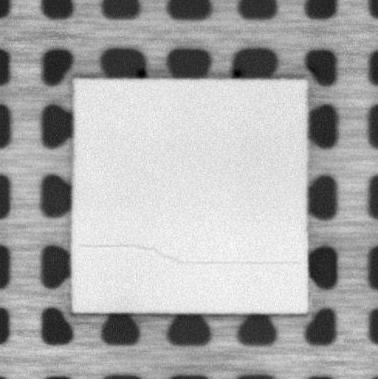DIE_CRACK: (78, 241, 303, 269)
